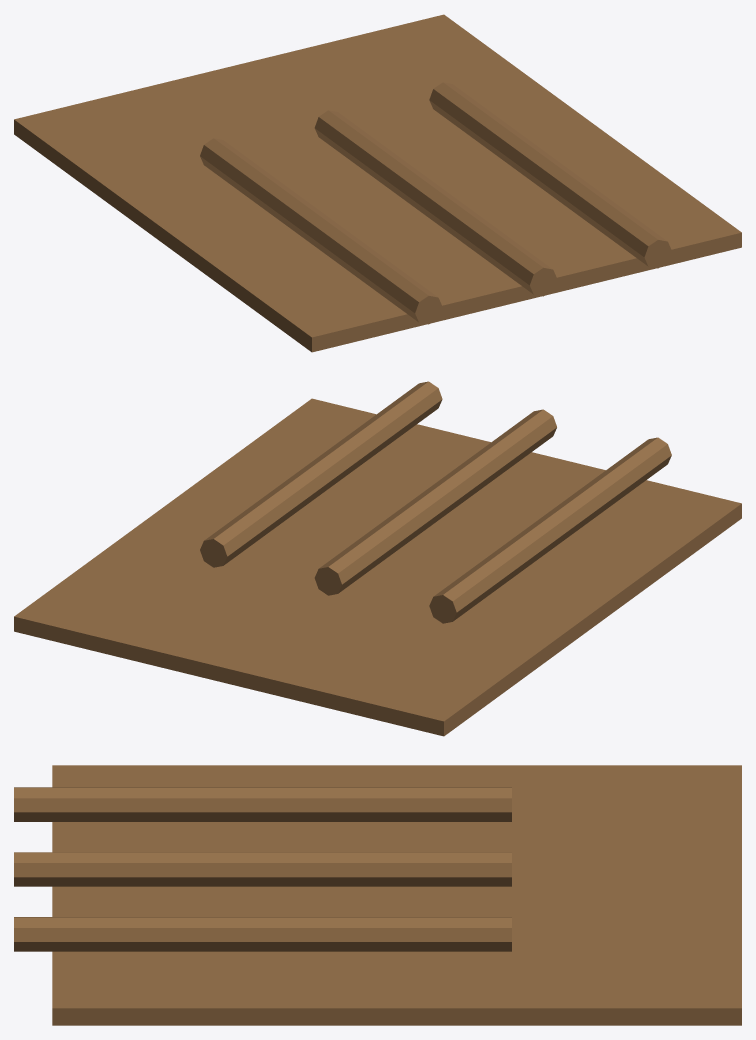
Rendered from norway-timber-yard_lod1.glb.
The picture shows the model from 3 angles, top to bottom: view 1: azimuth 30°, elevation 25°; view 2: azimuth 150°, elevation 25°; view 3: azimuth 270°, elevation 25°; orthographic projection. The views are drawn at different scales.
Parts seen in each view (by area): view 1: RF_TimberYard_Deck, RF_TimberYard_Log.001, RF_TimberYard_Log, RF_TimberYard_Log.002, RF_TimberYard_Log.005, RF_TimberYard_Log.004, RF_TimberYard_Log.003; view 2: RF_TimberYard_Deck, RF_TimberYard_Log.001, RF_TimberYard_Log.002, RF_TimberYard_Log, RF_TimberYard_Log.003, RF_TimberYard_Log.005, RF_TimberYard_Log.004; view 3: RF_TimberYard_Deck, RF_TimberYard_Log.002, RF_TimberYard_Log, RF_TimberYard_Log.001, RF_TimberYard_Log.003, RF_TimberYard_Log.004, RF_TimberYard_Log.005.
Boxes of the visible parts, box(x1,y1,x2,y2) form: RF_TimberYard_Deck: box(14, 14, 741, 352); RF_TimberYard_Log.001: box(364, 147, 556, 296); RF_TimberYard_Log: box(250, 174, 442, 324); RF_TimberYard_Log.002: box(479, 118, 671, 268); RF_TimberYard_Log.005: box(429, 82, 607, 229); RF_TimberYard_Log.004: box(314, 110, 499, 242); RF_TimberYard_Log.003: box(200, 138, 368, 281); RF_TimberYard_Deck: box(14, 398, 741, 736); RF_TimberYard_Log.001: box(369, 409, 556, 556); RF_TimberYard_Log.002: box(254, 381, 442, 520); RF_TimberYard_Log: box(486, 437, 671, 584); RF_TimberYard_Log.003: box(429, 481, 621, 623); RF_TimberYard_Log.005: box(200, 419, 392, 567); RF_TimberYard_Log.004: box(314, 446, 505, 595); RF_TimberYard_Deck: box(52, 765, 741, 1025); RF_TimberYard_Log.002: box(14, 917, 396, 951); RF_TimberYard_Log: box(14, 787, 396, 821); RF_TimberYard_Log.001: box(14, 852, 396, 886); RF_TimberYard_Log.003: box(129, 787, 511, 821); RF_TimberYard_Log.004: box(129, 852, 511, 886); RF_TimberYard_Log.005: box(129, 917, 511, 951).
Bounding box in the file's own units: 15 × 1.48 × 19.
